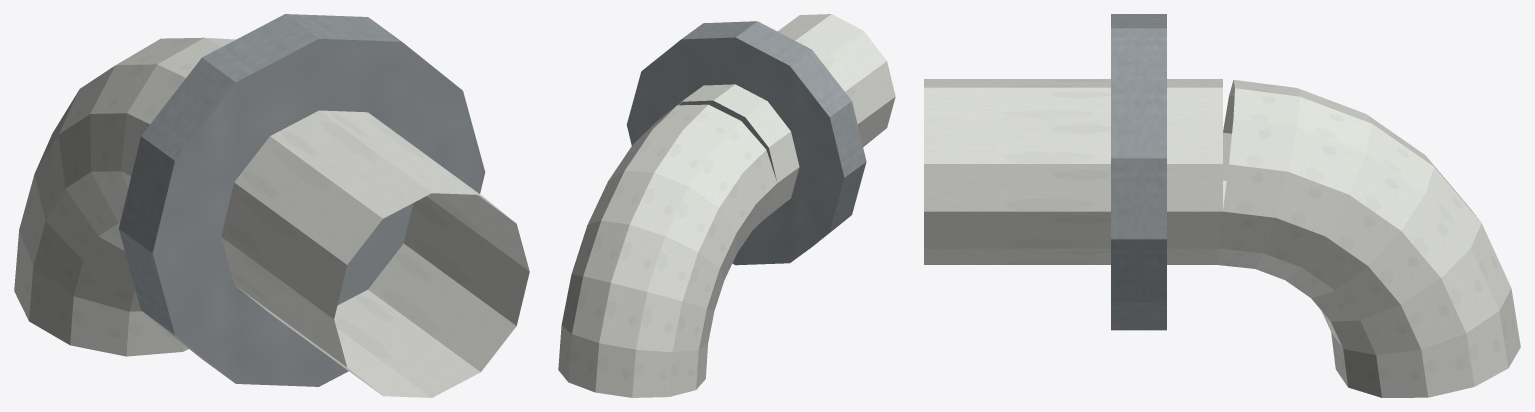
Rendered from body.obj.
3 views of the same model, side by side, from view 1: azimuth 30°, elevation 25°; view 2: azimuth 150°, elevation 25°; view 3: azimuth 270°, elevation 25° (orthographic). The views are drawn at different scales.
Size of the model in its own units: 0.34 by 0.4031 by 0.6391.
